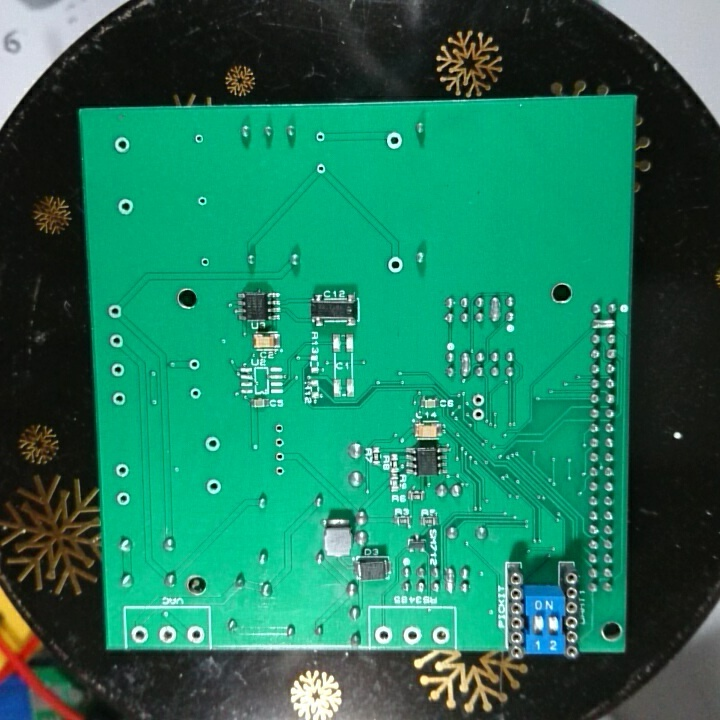F: (372, 622, 396, 646), (114, 195, 139, 218), (384, 253, 406, 278), (111, 134, 133, 157), (184, 623, 207, 644), (156, 625, 180, 645), (384, 129, 404, 151), (201, 435, 223, 455), (204, 477, 224, 499), (401, 624, 423, 643), (107, 332, 127, 352), (113, 460, 133, 480), (430, 626, 450, 646), (130, 623, 150, 643), (110, 388, 129, 409), (106, 301, 124, 323), (109, 360, 127, 381), (114, 491, 132, 509), (470, 407, 487, 425), (470, 392, 488, 408), (186, 357, 203, 373), (271, 420, 287, 437), (314, 159, 327, 178), (187, 384, 201, 401), (199, 254, 212, 272), (192, 131, 206, 147), (313, 129, 327, 143), (195, 195, 209, 209), (273, 449, 287, 463), (273, 464, 287, 478), (273, 437, 287, 449)
P: (487, 292, 503, 328), (458, 346, 473, 381), (590, 315, 618, 332), (443, 565, 457, 595)
